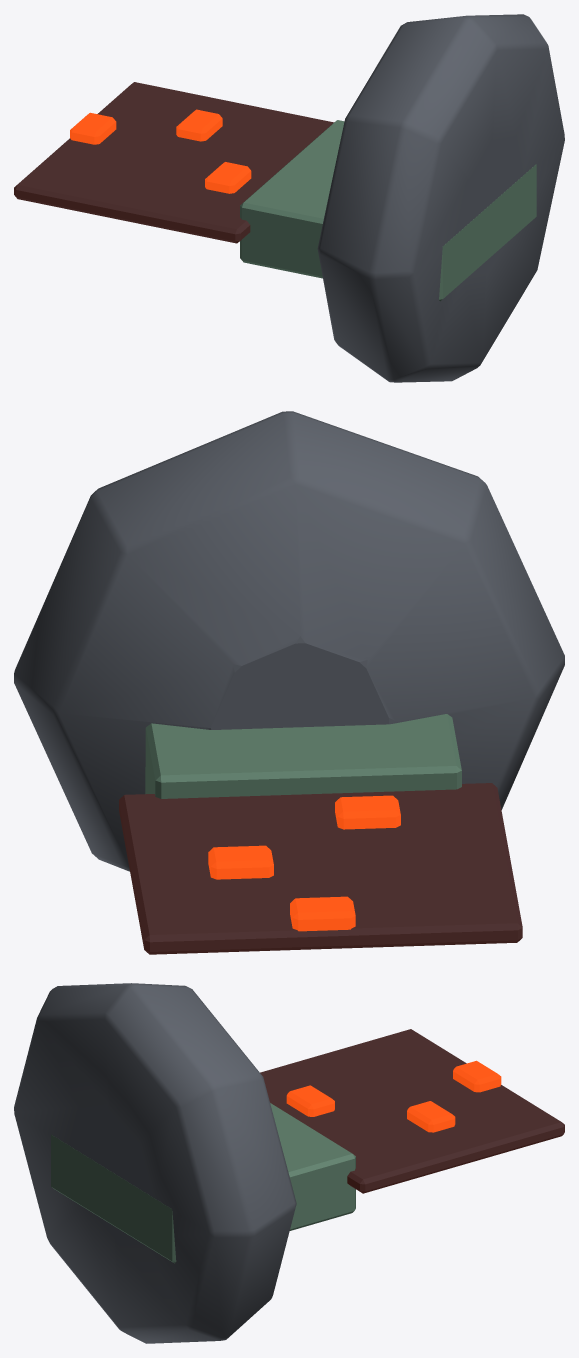
3 renders of one model, top to bottom at view 1: azimuth 30°, elevation 25°; view 2: azimuth 150°, elevation 25°; view 3: azimuth 270°, elevation 25°, orthographic. The views are drawn at different scales.
Visible parts, largest first — view 1: PT-ancient, PT-coal, PT-bronze, PT-ember; view 2: PT-ancient, PT-coal, PT-bronze, PT-ember; view 3: PT-ancient, PT-coal, PT-bronze, PT-ember.
Part boxes in pixels (box(x1,y1,x2,y2)): PT-ancient: box(317, 14, 564, 382); PT-coal: box(14, 82, 333, 243); PT-bronze: box(240, 120, 536, 301); PT-ember: box(70, 109, 251, 193); PT-ancient: box(14, 411, 564, 871); PT-coal: box(119, 783, 522, 954); PT-bronze: box(145, 714, 461, 798); PT-ember: box(208, 795, 400, 931); PT-ancient: box(14, 983, 296, 1343); PT-coal: box(260, 1029, 564, 1193); PT-bronze: box(51, 1103, 355, 1263); PT-ember: box(286, 1060, 501, 1132).
Size of the model in its own units: 0.7905 by 0.6105 by 0.8423.
